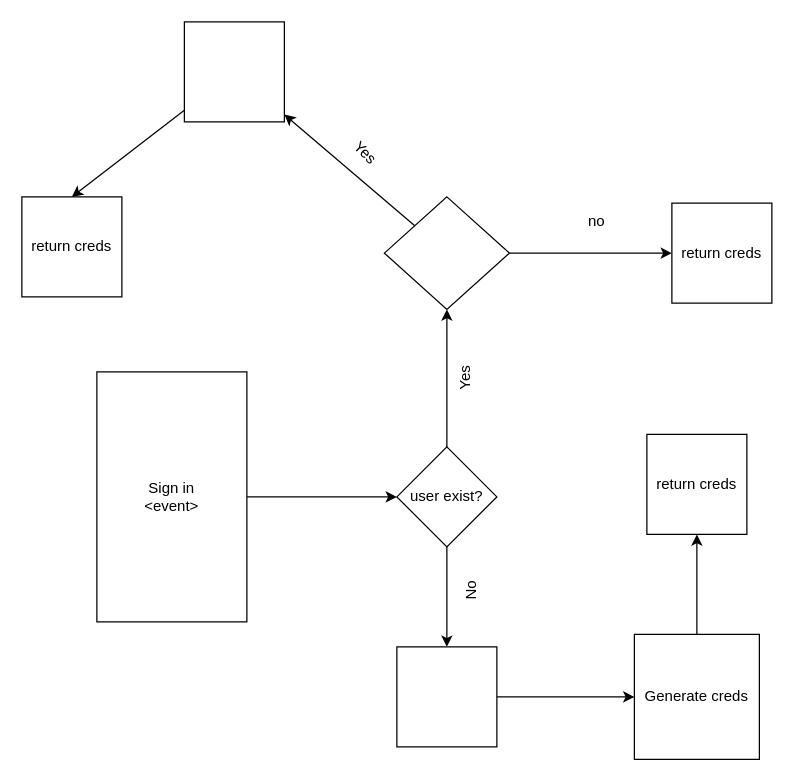
Some shapes in this 794 by 781 pixel diagram are drawn without their labels. The shapes that lost their labels are listed below. From the top down, each one's centre as x and y in pixels, then its label:
the point at 233,71: Update user data
the point at 446,252: Data updated?
the point at 446,696: Save user
